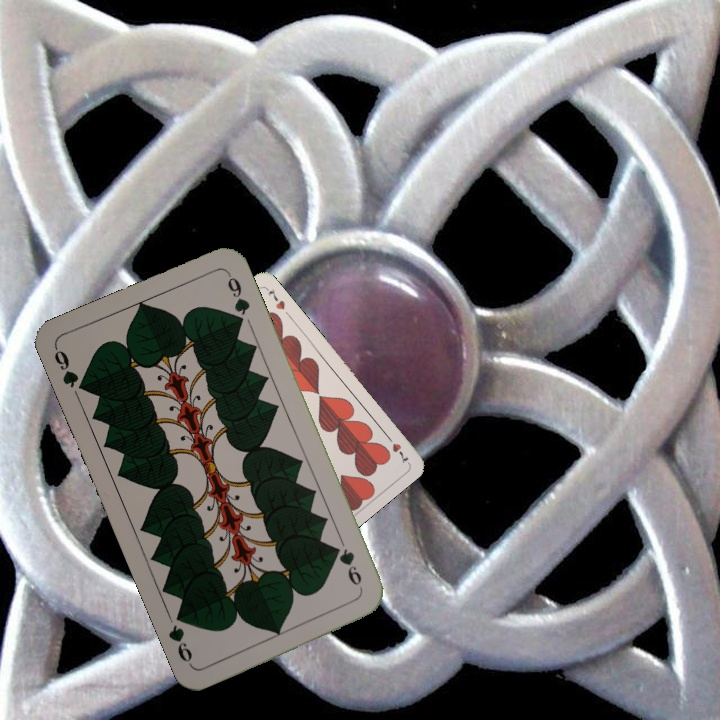G9: (50, 343, 91, 395), (329, 542, 365, 588)
H7: (382, 431, 411, 466)
